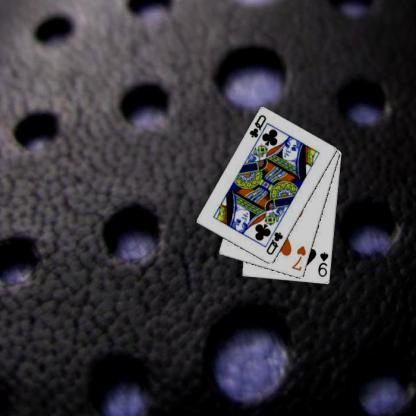7H: (289, 243, 308, 272)
9S: (315, 250, 330, 278)
QC: (247, 112, 268, 139), (264, 230, 284, 256)
